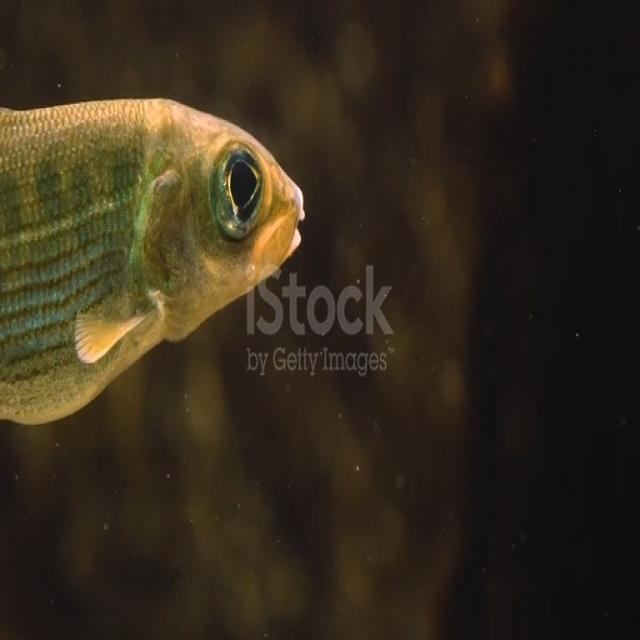fish: (1, 92, 321, 431)
